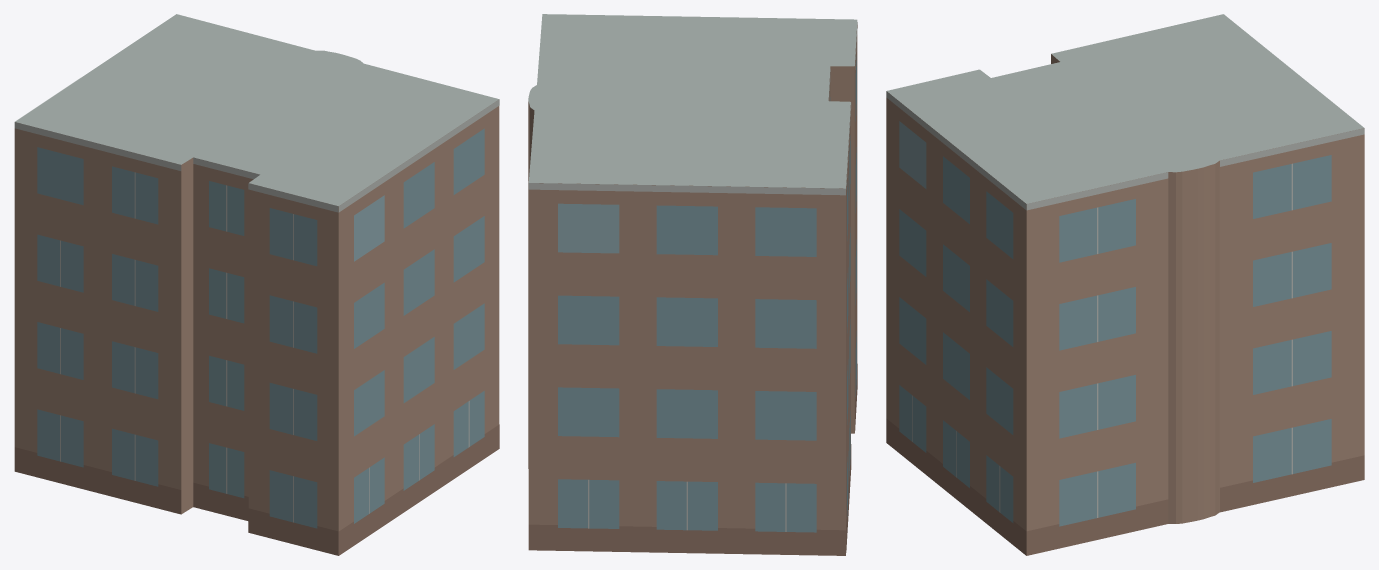
File: survey-upis-32742490.glb
The picture shows the model from 3 angles, left to right: view 1: azimuth 30°, elevation 25°; view 2: azimuth 150°, elevation 25°; view 3: azimuth 270°, elevation 25°; orthographic projection. The views are drawn at different scales.
Visible parts, largest first — view 1: survey-upis-32742490.tmp; view 2: survey-upis-32742490.tmp; view 3: survey-upis-32742490.tmp.
Part boxes in pixels (x1,y1,x2,y2): survey-upis-32742490.tmp: [14, 14, 499, 555]; survey-upis-32742490.tmp: [528, 14, 857, 555]; survey-upis-32742490.tmp: [886, 14, 1364, 555].
Size of the model in its own units: 15.37 by 13.27 by 16.34.
